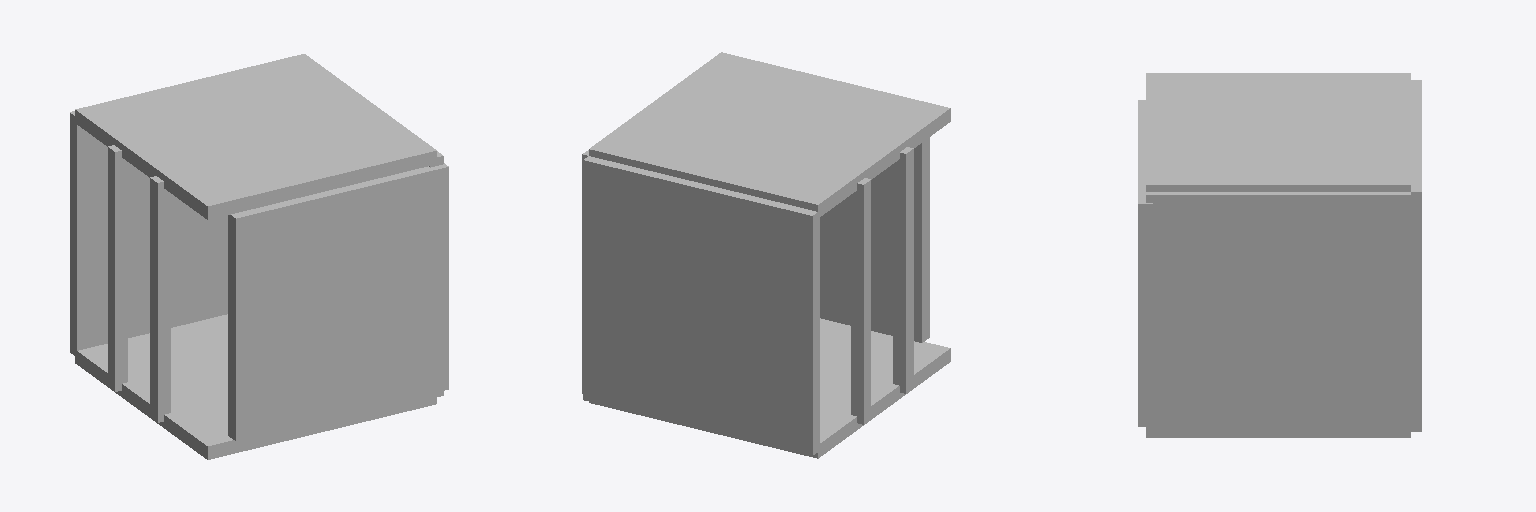
The model's file is cage.obj.
3 views of the same model, side by side, from view 1: azimuth 30°, elevation 25°; view 2: azimuth 150°, elevation 25°; view 3: azimuth 270°, elevation 25° (orthographic).
Visible parts, largest first — view 1: Cube.006, Cube.003, Cube.001, Cube.002, Cube.005, Cube; view 2: Cube.001, Cube.003, Cube.006, Cube.002, Cube.005, Cube; view 3: Cube.004, Cube.003, Cube.006, Cube.001, Cube.002.
Boxes of the visible parts, <box> form: Cube.006: <box>228,163,448,440</box>; Cube.003: <box>75,54,436,219</box>; Cube.001: <box>70,111,227,356</box>; Cube.002: <box>75,314,436,459</box>; Cube.005: <box>150,176,170,422</box>; Cube: <box>108,145,127,391</box>; Cube.001: <box>583,156,819,455</box>; Cube.003: <box>589,52,950,217</box>; Cube.006: <box>820,137,929,342</box>; Cube.002: <box>589,318,950,458</box>; Cube.005: <box>893,147,913,393</box>; Cube: <box>851,178,870,424</box>; Cube.004: <box>1146,192,1410,434</box>; Cube.003: <box>1146,73,1410,191</box>; Cube.006: <box>1138,100,1152,426</box>; Cube.001: <box>1411,80,1421,431</box>; Cube.002: <box>1146,435,1410,437</box>.
Size of the model in its own units: 0.745 by 0.74 by 0.75.